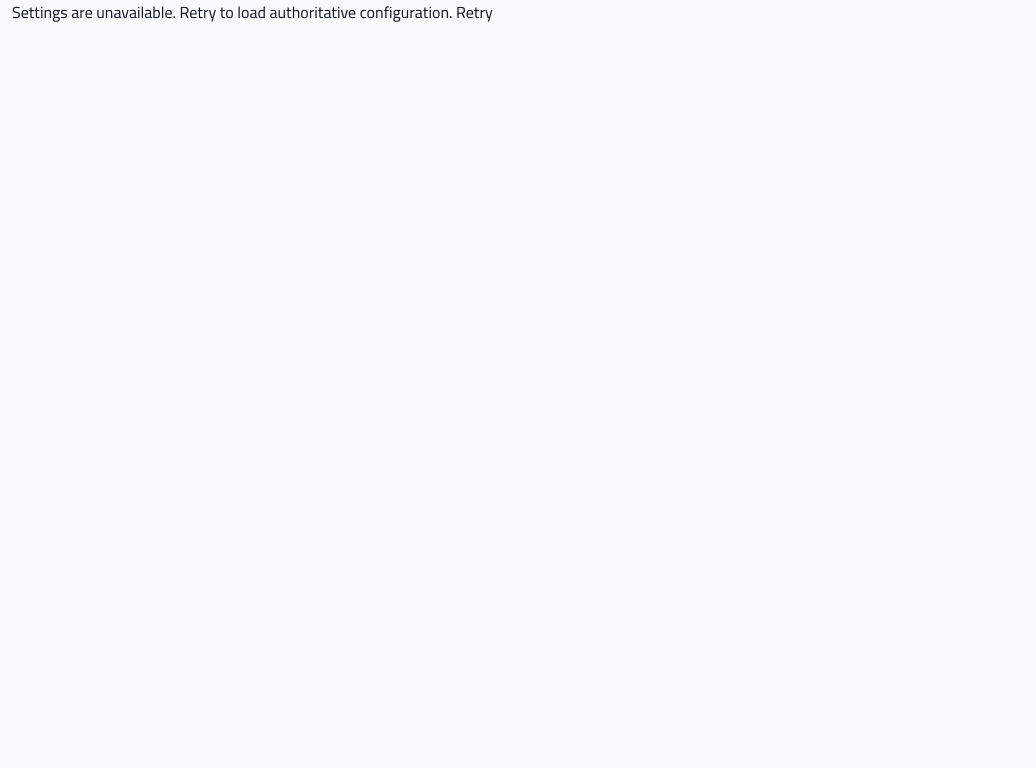
Test case: Phase7 assistant experience settings › does not show editable defaults after a failed authoritative read; retry recovers
Click the button "Retry": point(474, 12) [456,0,493,24]
(page scrolled)
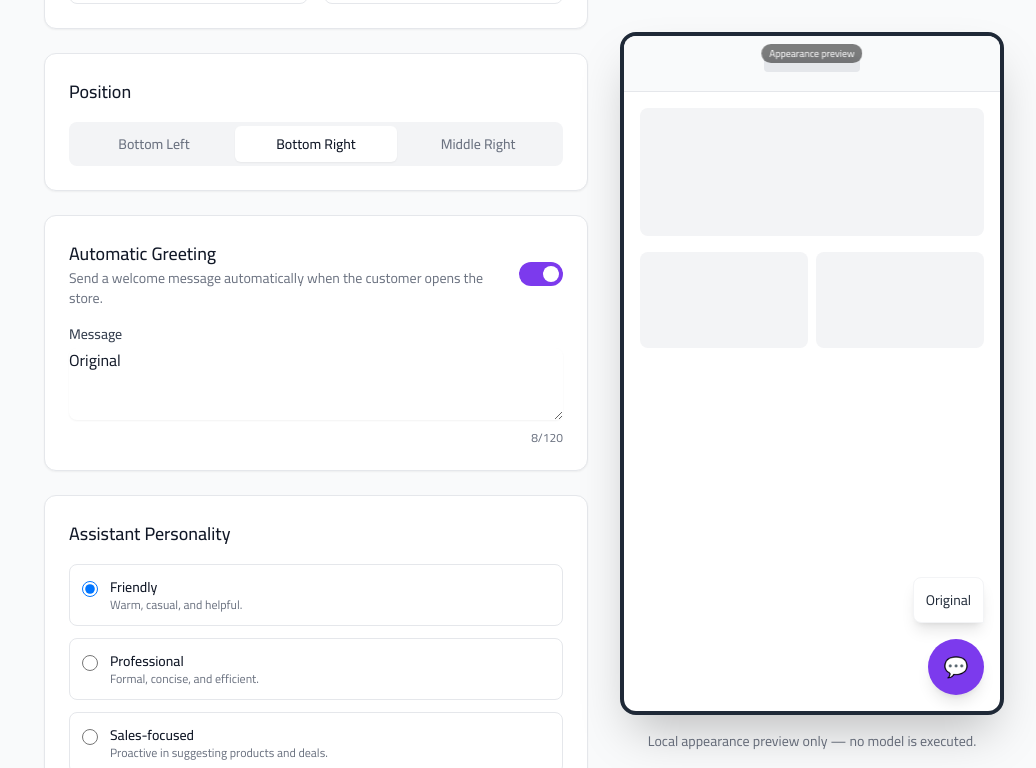
Expected: the text box holds "Original", [69,348,563,420]
